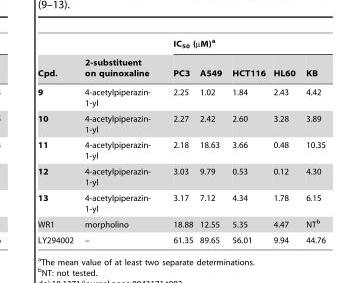table: (37, 37, 325, 244)
table column: (78, 37, 161, 244), (226, 37, 268, 244), (37, 37, 78, 244), (161, 37, 195, 244), (195, 37, 226, 244), (268, 37, 299, 244), (299, 37, 325, 244)
table column header: (37, 37, 325, 82)
table row: (37, 53, 325, 82), (37, 82, 325, 110), (37, 136, 325, 163), (37, 110, 325, 136), (37, 163, 325, 189), (37, 189, 325, 215), (37, 215, 325, 232), (37, 37, 325, 53), (37, 232, 325, 244)
table spanning cell: (78, 37, 161, 82), (161, 37, 325, 53), (37, 37, 78, 82)
